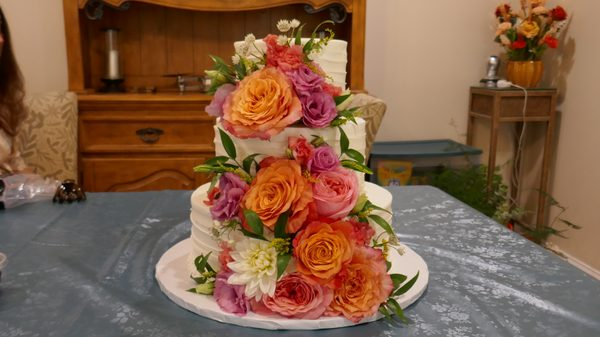curry: (1, 181, 571, 332)
soup: (492, 1, 573, 88), (505, 57, 544, 89)
